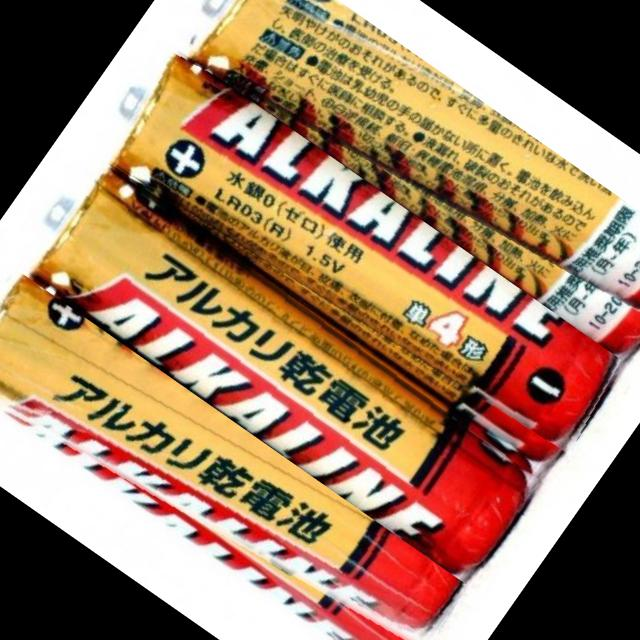Hazard: (6, 146, 556, 590), (84, 36, 630, 474), (0, 255, 475, 640), (167, 0, 640, 370)
